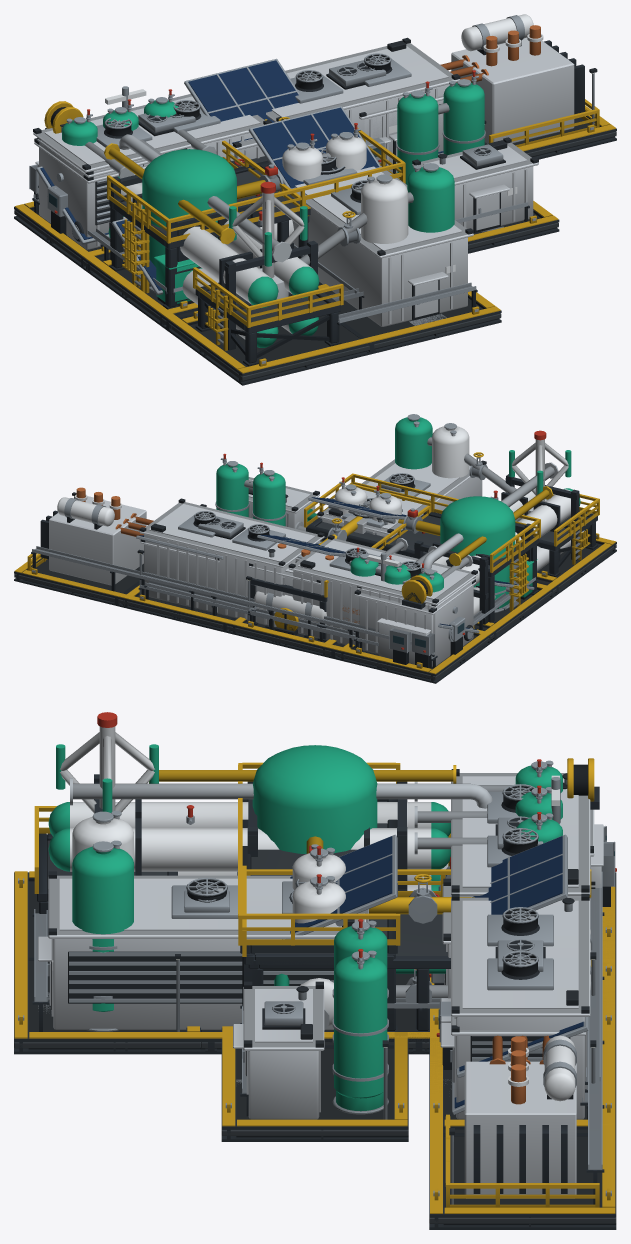
Rendered from pieces.glb.
The picture shows the model from 3 angles, top to bottom: view 1: azimuth 30°, elevation 25°; view 2: azimuth 150°, elevation 25°; view 3: azimuth 270°, elevation 25°; orthographic projection. The views are drawn at different scales.
Parts seen in each view (by area): view 1: piece_I4, piece_L, piece_Z, piece_J, piece_O, piece_S, piece_V, piece_I3, piece_T; view 2: piece_I4, piece_L, piece_O, piece_J, piece_S, piece_I3, piece_Z, piece_V, piece_T; view 3: piece_I4, piece_Z, piece_L, piece_J, piece_S, piece_O, piece_T, piece_I3.
Boxes of the visible parts, left/top/right/bottom form: piece_I4: left=25, top=14, right=616, bottom=266; piece_L: left=14, top=134, right=501, bottom=385; piece_Z: left=47, top=58, right=559, bottom=258; piece_J: left=171, top=159, right=491, bottom=381; piece_O: left=14, top=89, right=405, bottom=326; piece_S: left=93, top=95, right=443, bottom=321; piece_V: left=36, top=86, right=202, bottom=323; piece_I3: left=14, top=151, right=443, bottom=270; piece_T: left=37, top=101, right=401, bottom=256; piece_I4: left=14, top=487, right=489, bottom=681; piece_L: left=340, top=414, right=616, bottom=681; piece_O: left=230, top=473, right=553, bottom=682; piece_J: left=231, top=430, right=611, bottom=655; piece_S: left=130, top=477, right=549, bottom=652; piece_I3: left=122, top=549, right=491, bottom=683; piece_Z: left=200, top=453, right=473, bottom=641; piece_V: left=232, top=552, right=553, bottom=656; piece_T: left=136, top=484, right=488, bottom=649; piece_I4: left=429, top=769, right=616, bottom=1229; piece_Z: left=221, top=834, right=591, bottom=1141; piece_L: left=14, top=765, right=615, bottom=1054; piece_J: left=28, top=712, right=615, bottom=1054; piece_S: left=237, top=745, right=615, bottom=1120; piece_O: left=221, top=759, right=616, bottom=1054; piece_T: left=221, top=758, right=600, bottom=1113; piece_I3: left=429, top=824, right=616, bottom=1129.
Size of the model in its own units: 3.9 by 1.12 by 2.9.
